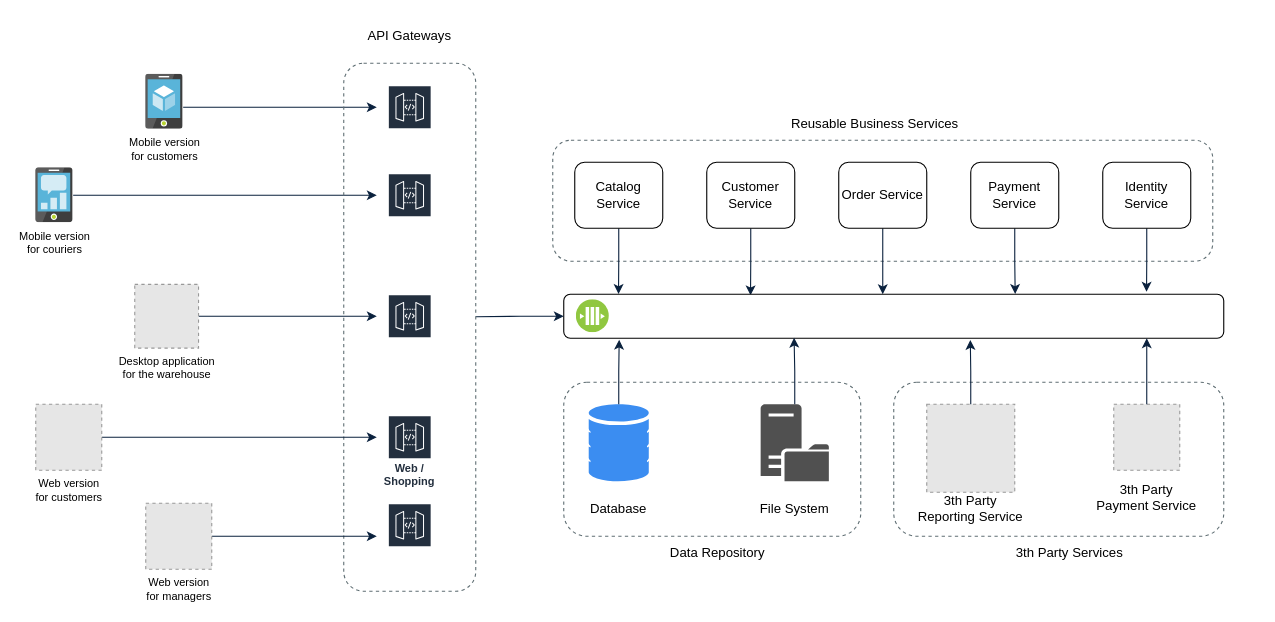
Image size: 1275x622. Some labels were removed from this diagram. Grey dashed boxes stand in for pictures. The shapes that lost their labels are listed below. From the top down, each one's box as (x1, y1, x2, y2) in pixels, then its label:
(387, 84, 432, 162): Mobile / Shopping
(387, 172, 432, 250): Mobile / Couriers
(387, 293, 432, 371): Desktop/ Warehouse
(563, 293, 1224, 338): Enterprise Service Bus
(387, 502, 432, 580): Web / Managers
